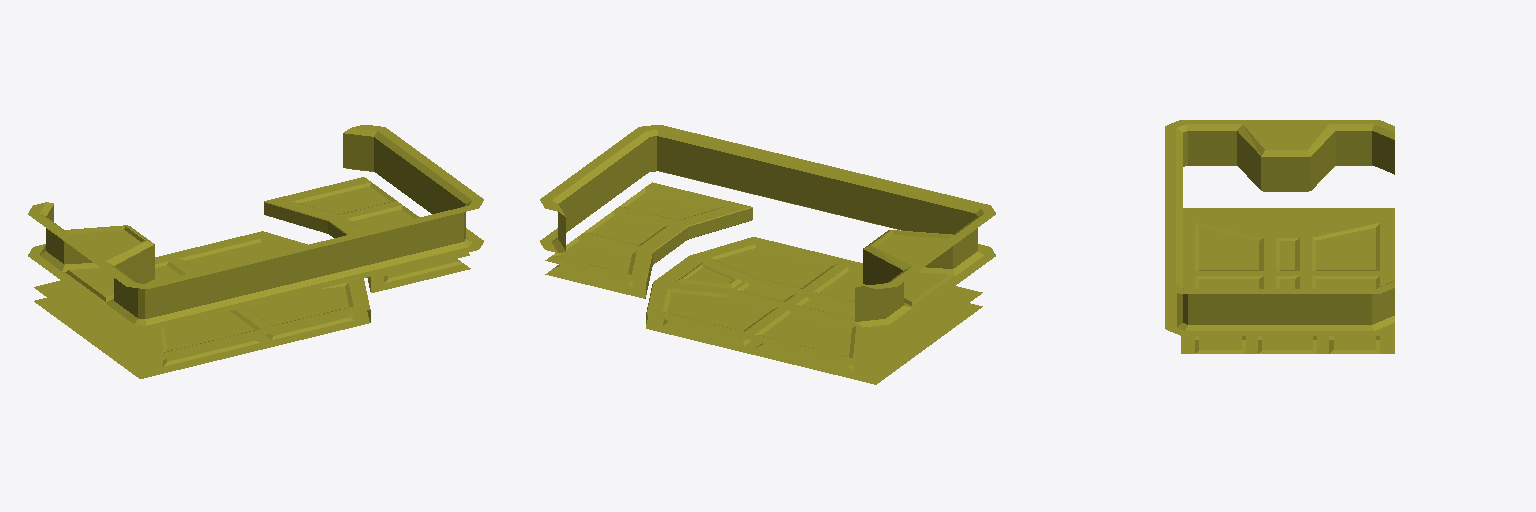
File: Blast.obj
3 renders of one model, left to right at view 1: azimuth 30°, elevation 25°; view 2: azimuth 150°, elevation 25°; view 3: azimuth 270°, elevation 25°, orthographic.
Visible parts, largest first — view 1: SM_BlastDoorFrame_E; view 2: SM_BlastDoorFrame_E; view 3: SM_BlastDoorFrame_E.
Boxes of the visible parts, x1=… form: SM_BlastDoorFrame_E: x1=28, y1=125, x2=483, y2=378; SM_BlastDoorFrame_E: x1=540, y1=125, x2=995, y2=384; SM_BlastDoorFrame_E: x1=1165, y1=120, x2=1394, y2=353.
Bounding box in the file's own units: 213 × 55.72 × 118.